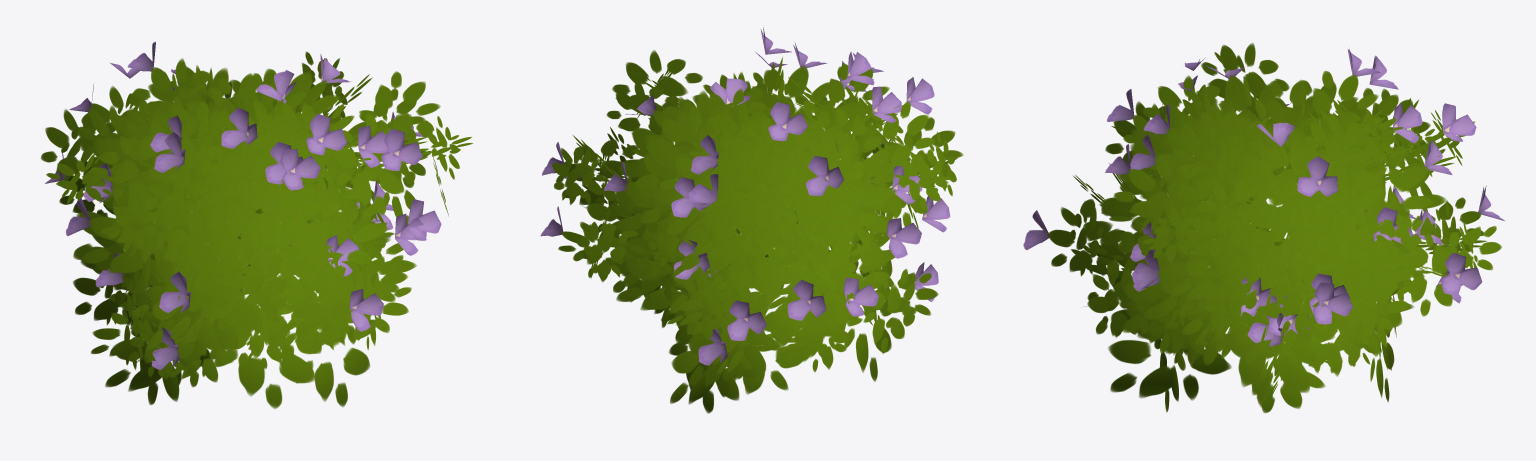
File: q-bush-with-flowers-u1ymdy8tby.glb
3 renders of one model, left to right at view 1: azimuth 30°, elevation 25°; view 2: azimuth 150°, elevation 25°; view 3: azimuth 270°, elevation 25°, orthographic. The views are drawn at different scales.
Parts seen in each view (by area): view 1: Bush_Common_Flowers; view 2: Bush_Common_Flowers; view 3: Bush_Common_Flowers.
Boxes of the visible parts, <box> form: Bush_Common_Flowers: <box>41,41,473,408</box>; Bush_Common_Flowers: <box>540,27,963,413</box>; Bush_Common_Flowers: <box>1023,43,1504,412</box>.
Size of the model in its own units: 1.91 by 1.58 by 1.97.
2 materials, 2 textured.
